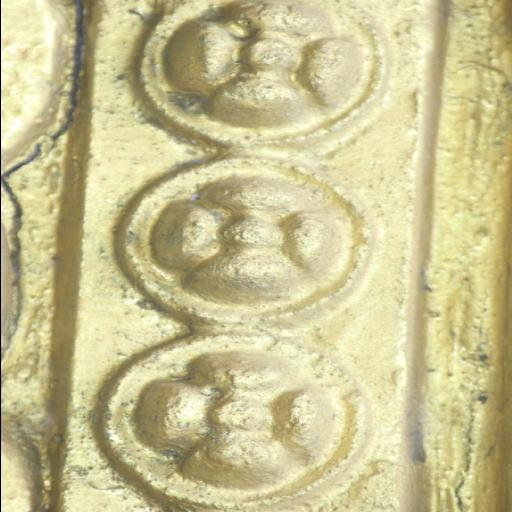hoa: (102, 344, 360, 509), (126, 158, 370, 317), (140, 0, 389, 149)
